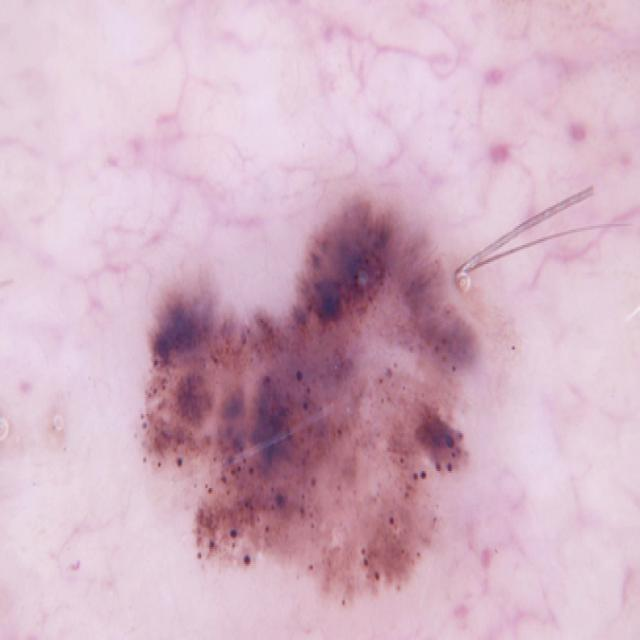Carcinoma: (118, 176, 498, 635), (0, 383, 39, 505)
